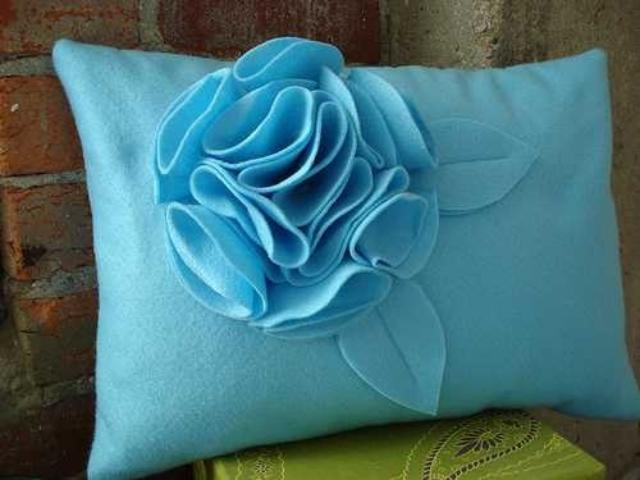pillow: (50, 35, 638, 479)
